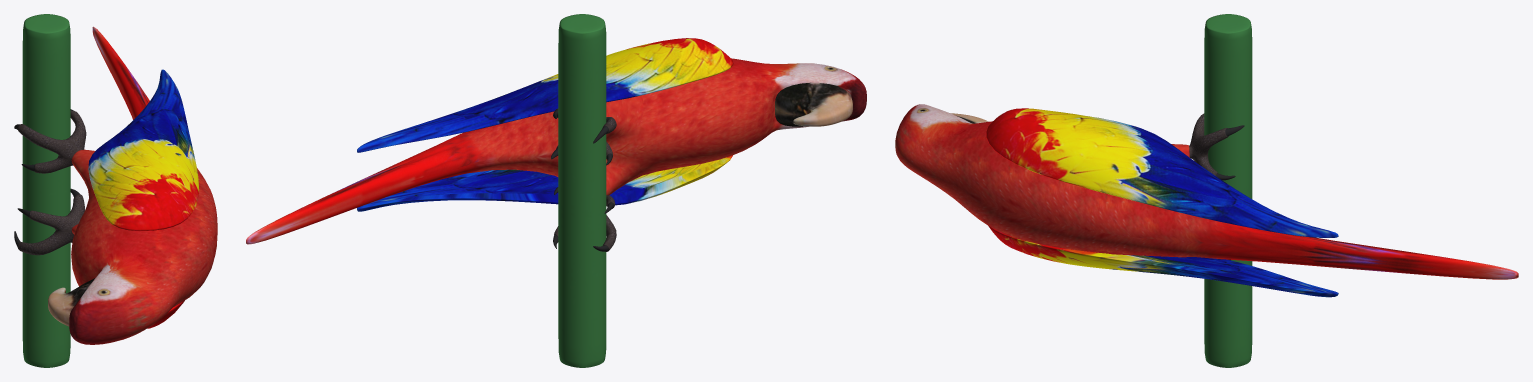
Rendered from parrots.glb.
The picture shows the model from 3 angles, left to right: view 1: azimuth 30°, elevation 25°; view 2: azimuth 150°, elevation 25°; view 3: azimuth 270°, elevation 25°; orthographic projection.
Parts seen in each view (by area): view 1: 10032_Parrot_V1_L3; view 2: 10032_Parrot_V1_L3; view 3: 10032_Parrot_V1_L3.
Part boxes in pixels (x1,y1,x2,y2): 10032_Parrot_V1_L3: (14, 14, 217, 367); 10032_Parrot_V1_L3: (246, 14, 866, 367); 10032_Parrot_V1_L3: (895, 14, 1518, 367).
Bounding box in the file's own units: 27.66 × 27.76 × 46.6.
1 material, 1 textured.
